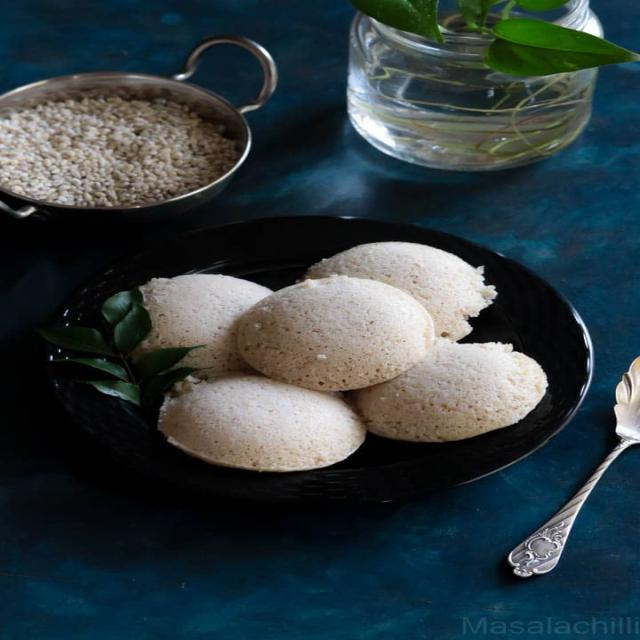Wet Waste: (233, 276, 435, 389), (158, 371, 372, 468), (354, 340, 554, 440), (299, 242, 497, 340), (145, 276, 285, 372)
